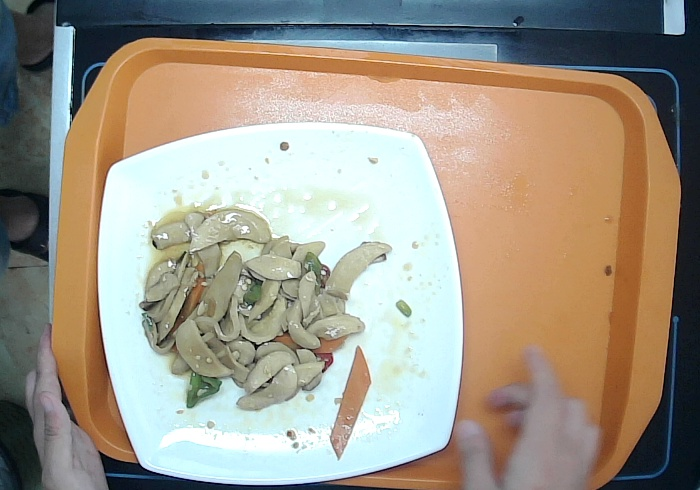ZNLD-Bai_Fang_Pan: (93, 119, 469, 490)
